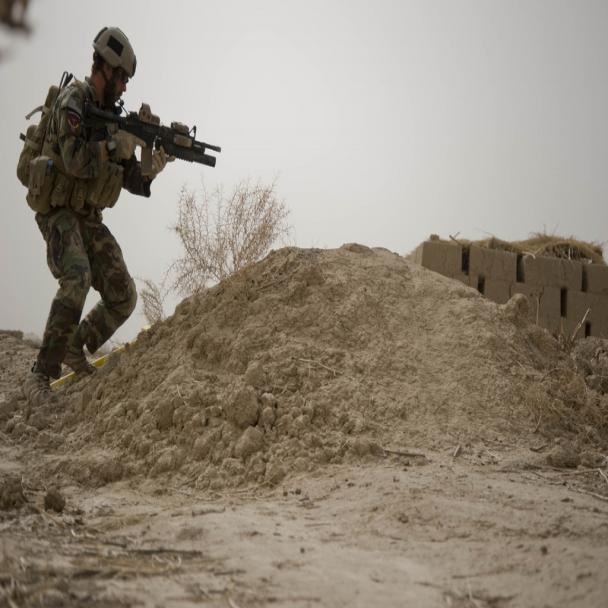Gun: (104, 97, 225, 170)
